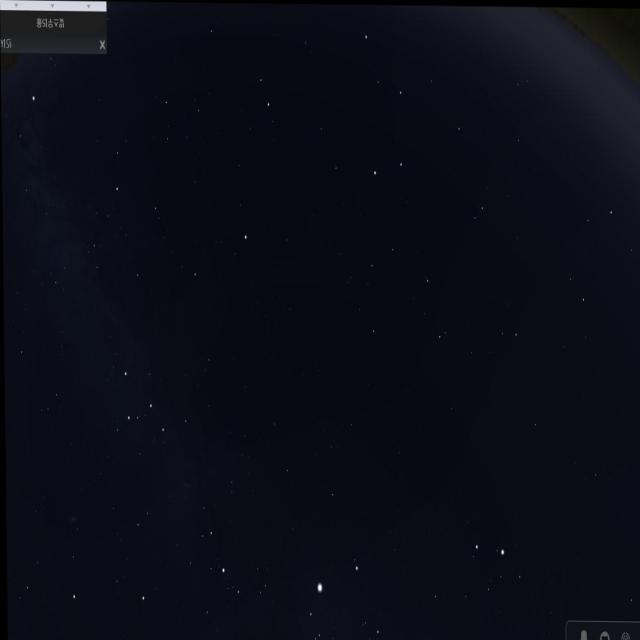ursa_major: (352, 4, 410, 176)
